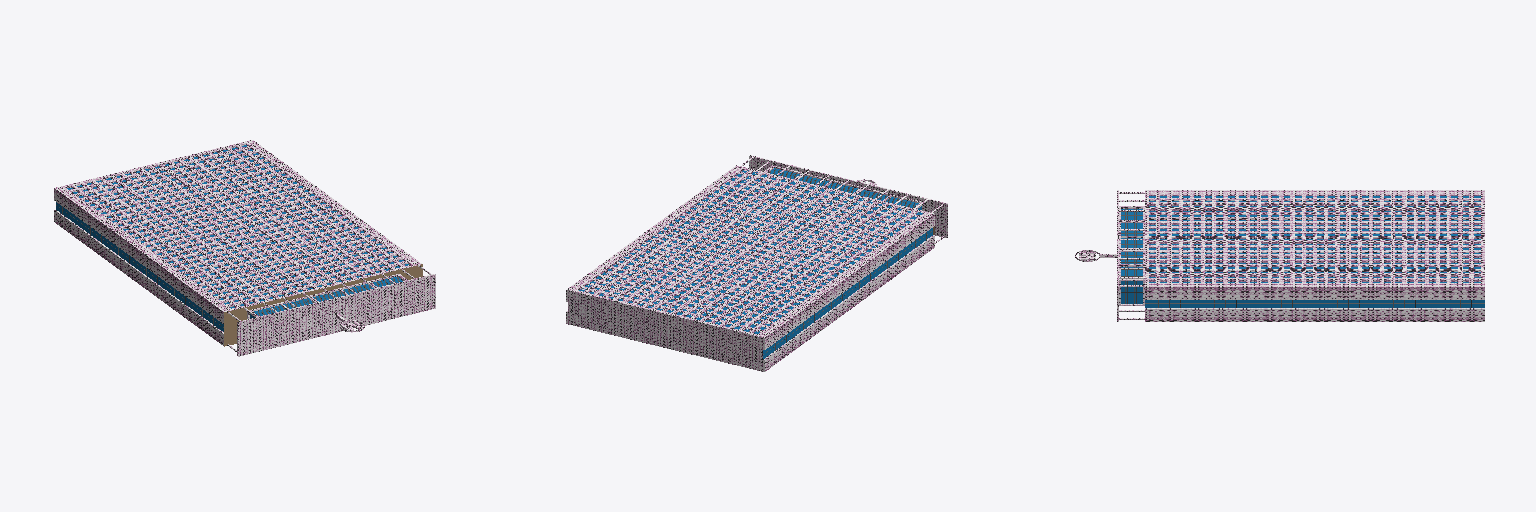
The picture shows the model from 3 angles: view 1: azimuth 30°, elevation 25°; view 2: azimuth 150°, elevation 25°; view 3: azimuth 270°, elevation 25°; orthographic projection.
Visible parts, largest first — view 1: Wall_01, Wall_09, Wall_03, Wall_02, Glaz_01, slab_01; view 2: Wall_01, Wall_02, Wall_09, Wall_03, Glaz_01, frame_01; view 3: Wall_01, Wall_03, Glaz_01, Wall_02, Glaz_02, frame_01, Wall_09, Cols_01.
Boxes of the visible parts, <box> form: Wall_01: <box>69,143,406,308</box>; Wall_09: <box>66,143,435,356</box>; Wall_03: <box>54,140,421,345</box>; Wall_02: <box>64,142,412,309</box>; Glaz_01: <box>56,145,408,331</box>; slab_01: <box>224,264,422,346</box>; Wall_01: <box>582,169,918,333</box>; Wall_02: <box>576,167,925,335</box>; Wall_09: <box>566,155,947,371</box>; Wall_03: <box>566,165,934,371</box>; Glaz_01: <box>579,170,932,358</box>; frame_01: <box>582,169,931,354</box>; Wall_01: <box>1145,198,1484,281</box>; Wall_03: <box>1145,190,1484,321</box>; Glaz_01: <box>1145,196,1484,307</box>; Wall_02: <box>1145,195,1484,282</box>; Glaz_02: <box>1121,209,1142,303</box>; frame_01: <box>1121,208,1484,307</box>; Wall_09: <box>1117,190,1144,321</box>; Cols_01: <box>1119,192,1144,319</box>.
Bounding box in the file's own units: 2455 × 406 × 4396.
4 materials, 1 textured.